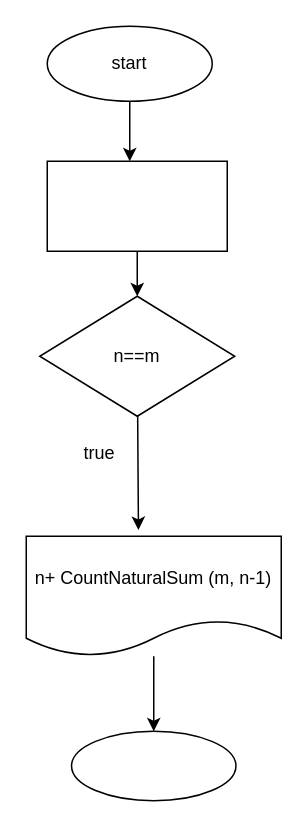
The diagram is 308 pixels wide and 828 high, and some of its shapes have lost their labels. The shapes that lost their labels are listed below. From the top down, each one's centre as x and y in pixels, then its label:
At point (136, 205): "number n => 0 number m =>0".
At point (153, 765): "end".
